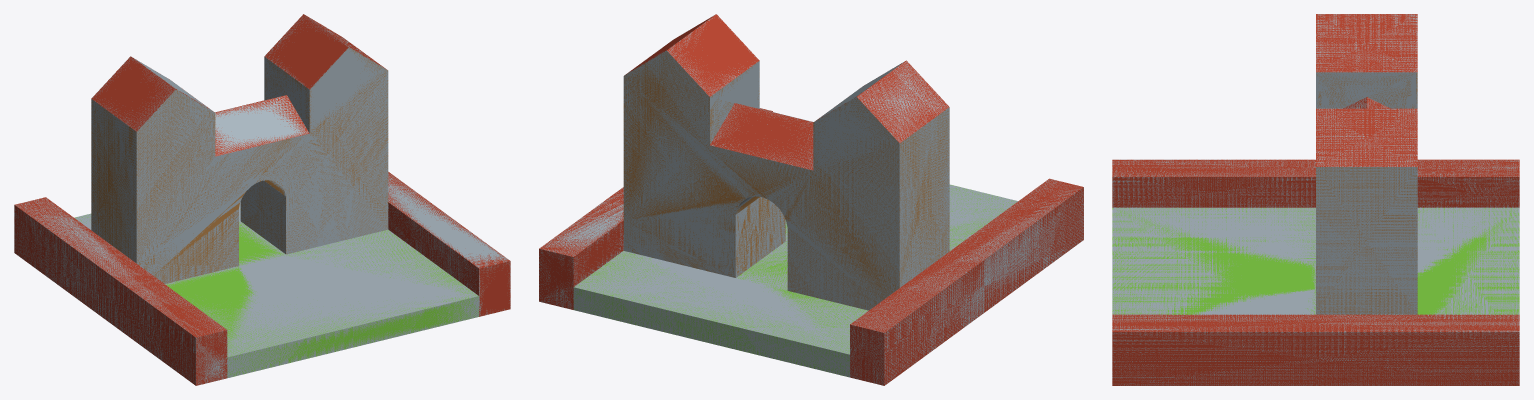
The model's file is Castle_01.fbx.
3 views of the same model, side by side, from view 1: azimuth 30°, elevation 25°; view 2: azimuth 150°, elevation 25°; view 3: azimuth 270°, elevation 25° (orthographic). The views are drawn at different scales.
Visible parts, largest first — view 1: Mesh1_Castle Model; view 2: Mesh1_Castle Model; view 3: Mesh1_Castle Model.
Boxes of the visible parts, <box> form: Mesh1_Castle Model: <box>14,14,510,385</box>; Mesh1_Castle Model: <box>539,14,1083,385</box>; Mesh1_Castle Model: <box>1112,14,1519,385</box>.
Bounding box in the file's own units: 3 × 1.94 × 3.
